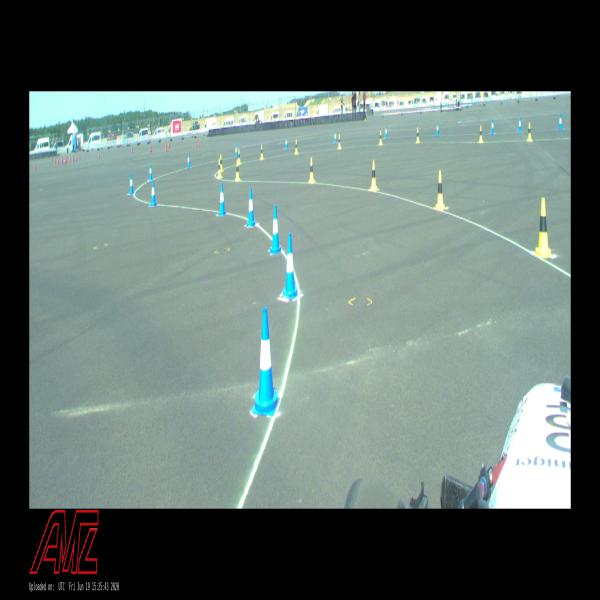blue_cone: (252, 307, 280, 416), (283, 233, 298, 299), (270, 205, 281, 254), (247, 188, 255, 227), (218, 183, 226, 215), (150, 180, 157, 206), (129, 173, 134, 194), (490, 120, 495, 134), (558, 114, 562, 130), (149, 164, 153, 180), (518, 118, 522, 132), (436, 122, 439, 136), (187, 154, 190, 168), (235, 144, 238, 158), (285, 137, 288, 149), (384, 126, 387, 138), (334, 131, 336, 144)
unknown_cone: (150, 146, 152, 152), (57, 159, 59, 164), (54, 159, 56, 164), (65, 157, 66, 164), (62, 157, 63, 164), (35, 164, 36, 170), (166, 144, 167, 150), (196, 140, 197, 146), (199, 141, 200, 147), (73, 157, 74, 162), (76, 156, 77, 161), (52, 156, 53, 161), (150, 147, 151, 152), (167, 146, 168, 151), (169, 143, 170, 148), (61, 157, 62, 161), (99, 154, 100, 158), (70, 157, 70, 162), (132, 148, 132, 154)
yellow_cone: (535, 198, 551, 258), (435, 171, 445, 209), (370, 160, 377, 190), (308, 158, 315, 183), (235, 160, 240, 180), (217, 159, 222, 178), (527, 122, 532, 141), (479, 125, 483, 143), (378, 130, 382, 146), (416, 128, 420, 143), (260, 145, 264, 160), (220, 154, 223, 171), (338, 134, 341, 150), (295, 140, 298, 154), (238, 150, 241, 164)
